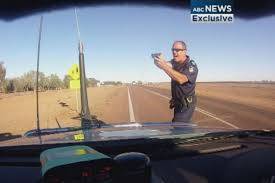pistol: (151, 51, 162, 65)
